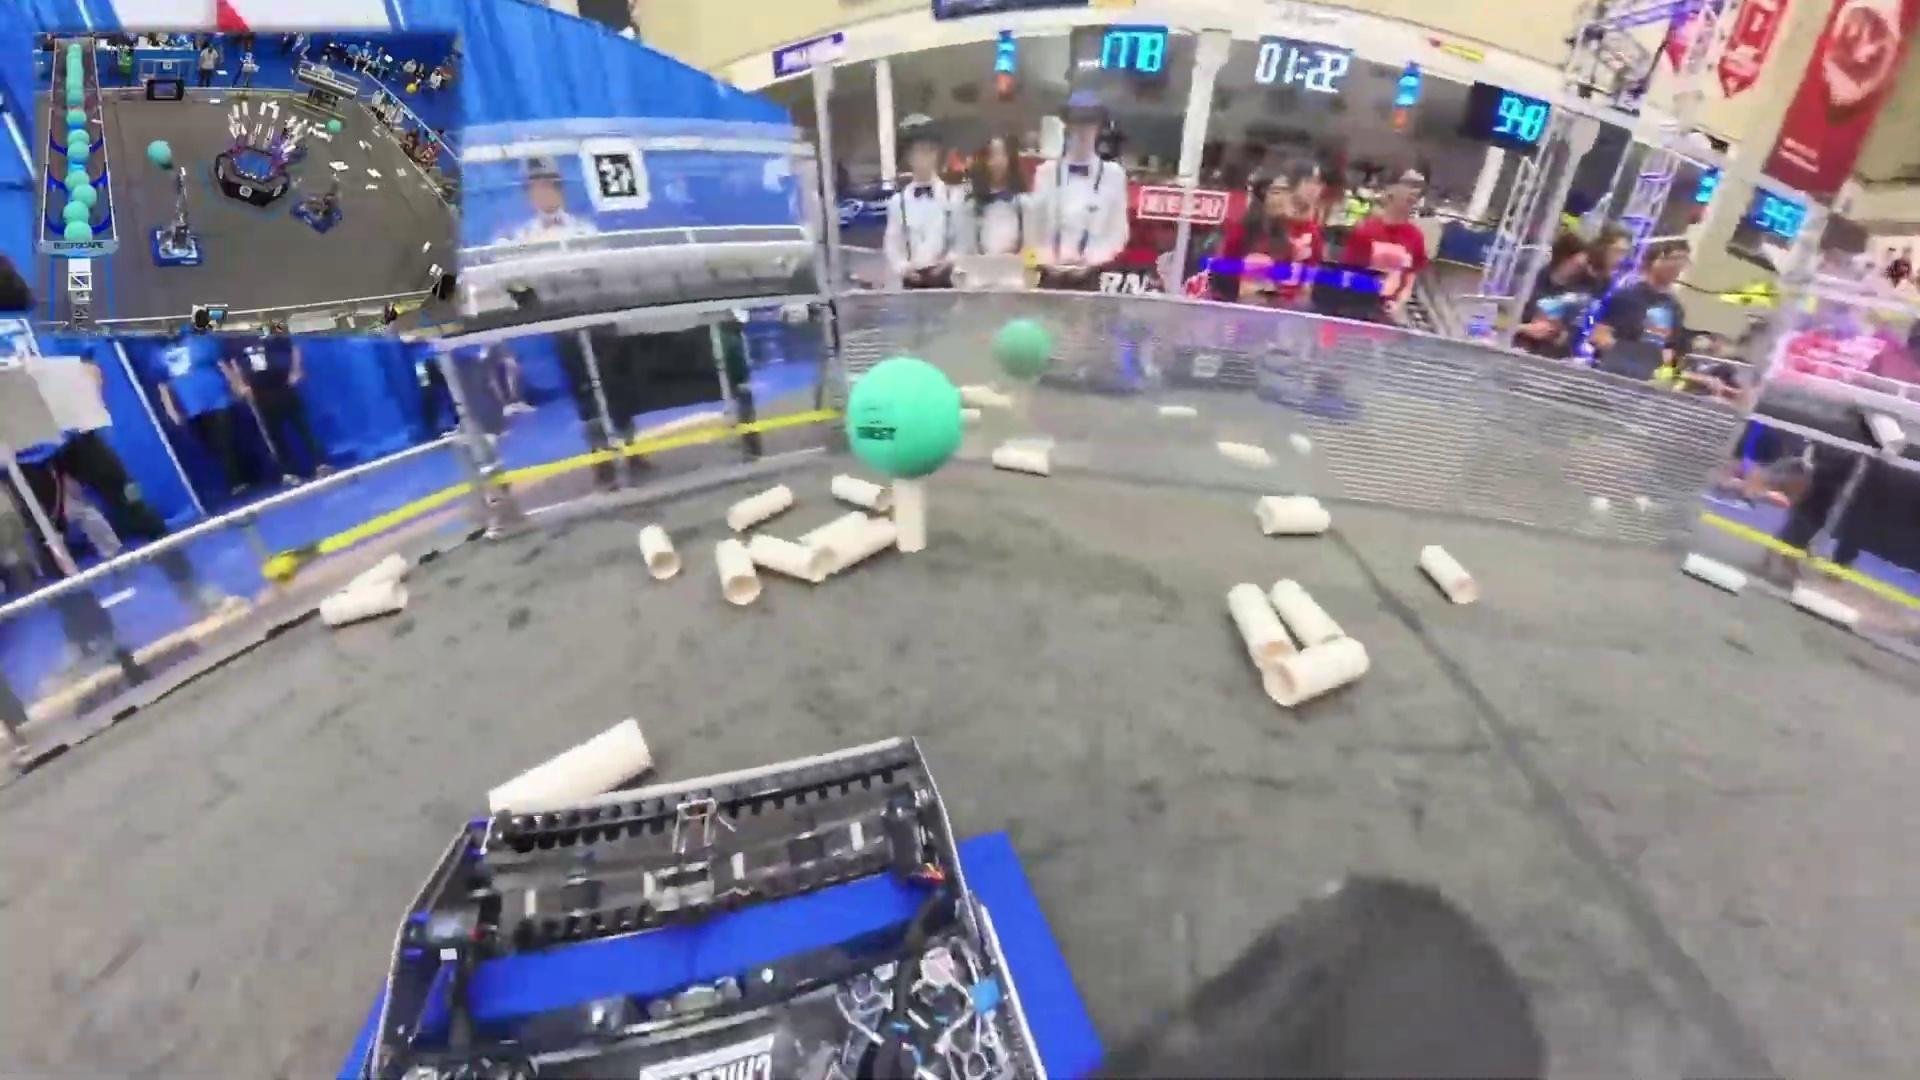robot: (149, 162, 204, 269), (291, 171, 344, 236)
